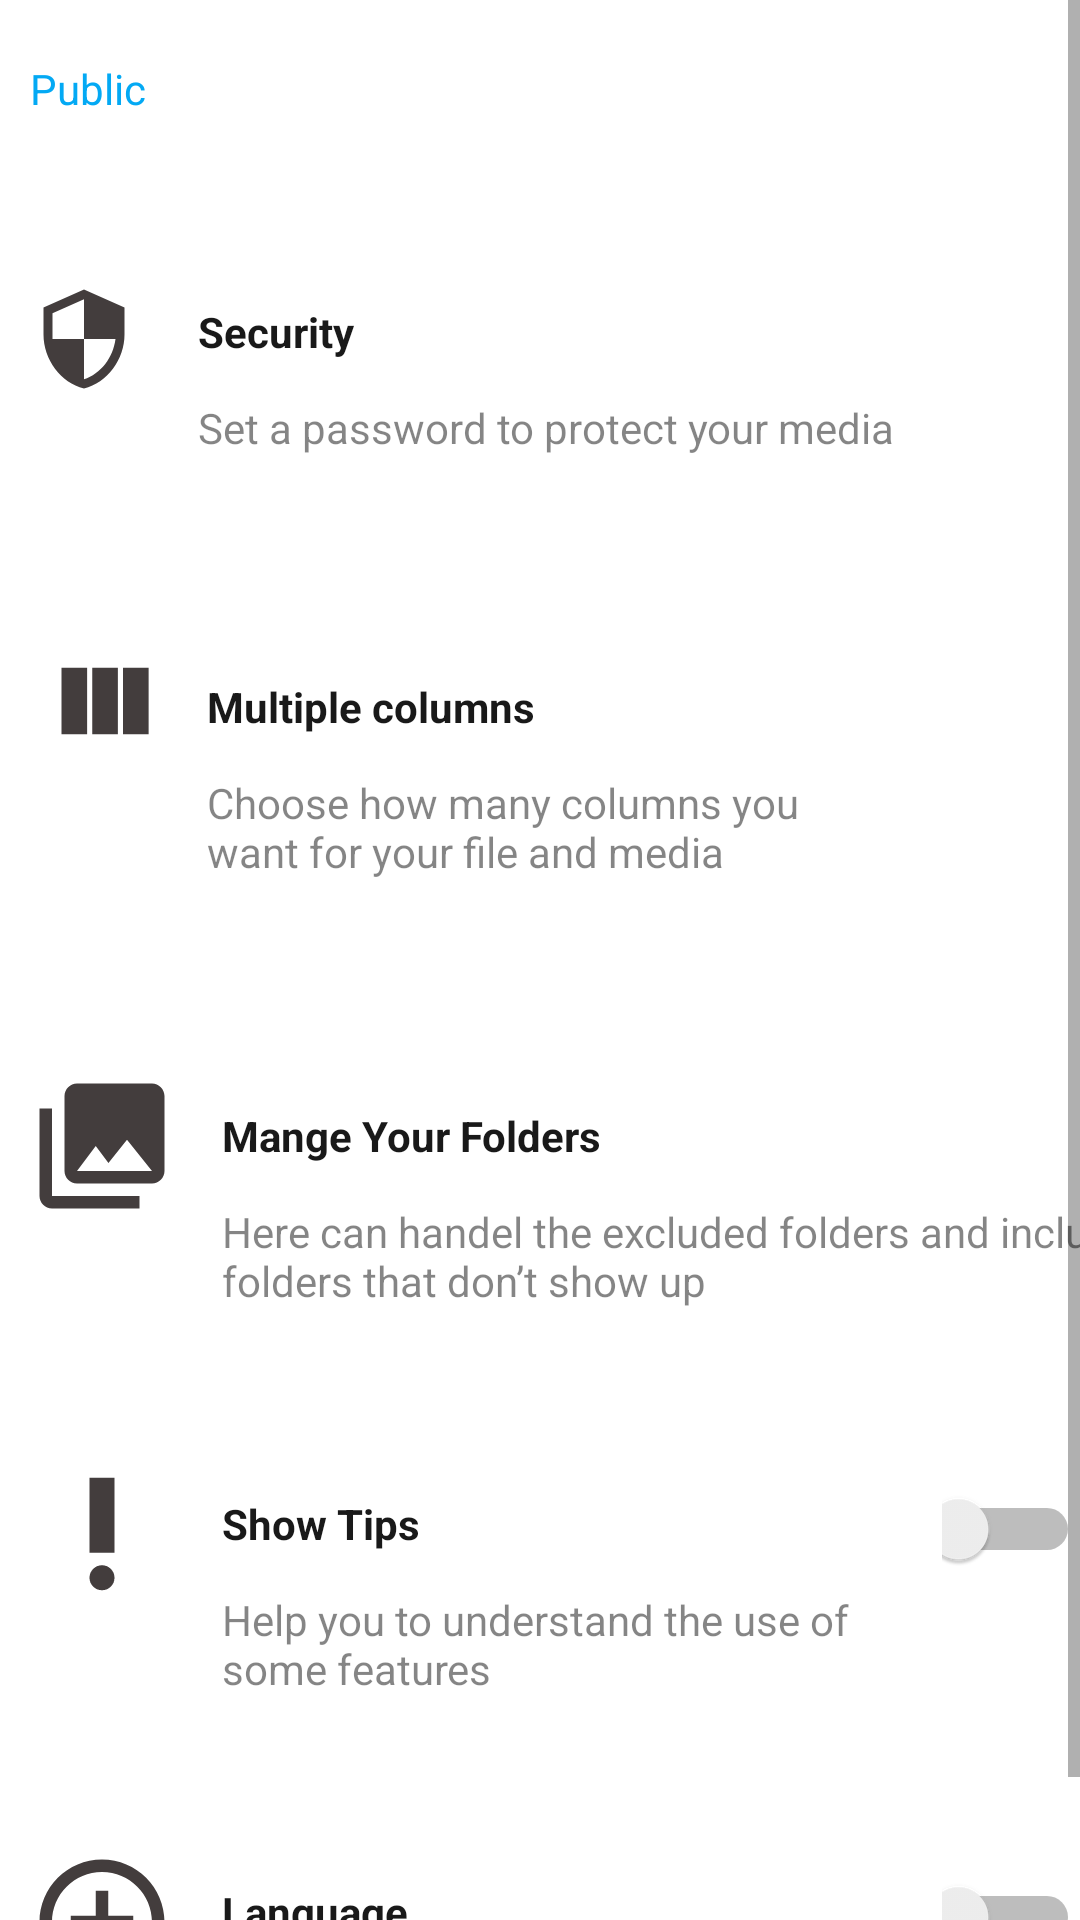

Point at icon controls on the screen. Image size 1080 × 1920, points as point (x, y).
pcolumn: point (105, 701)
pphoto: point (102, 1146)
ppriority: point (102, 1534)
